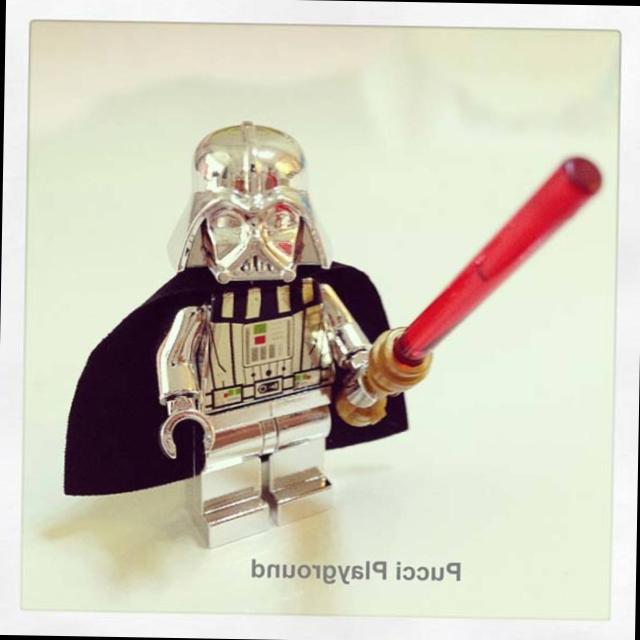Toy: (336, 154, 599, 433)
